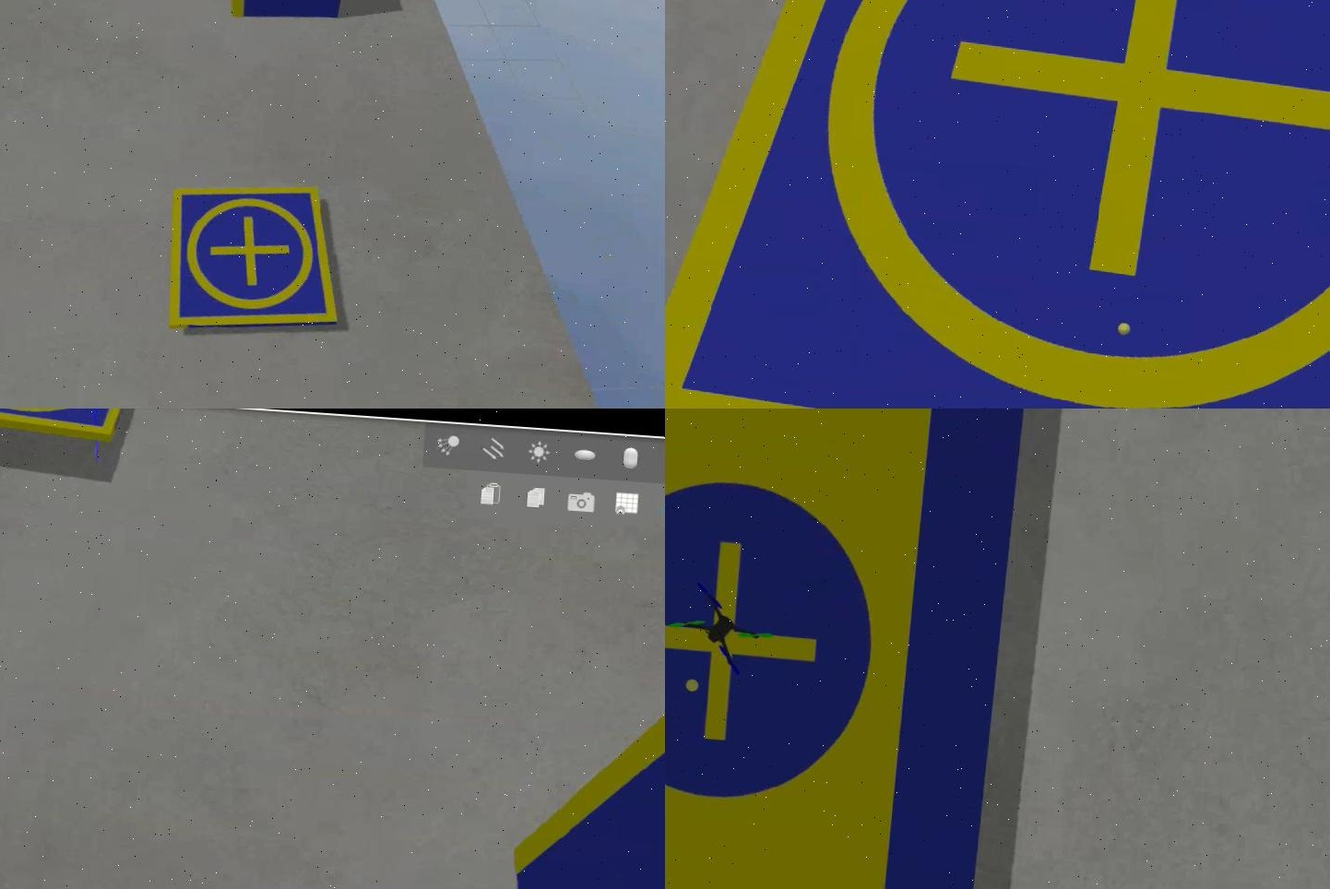large_base: (663, 409, 1029, 889)
small_base: (663, 1, 1328, 409), (162, 180, 347, 339), (0, 409, 118, 439)
